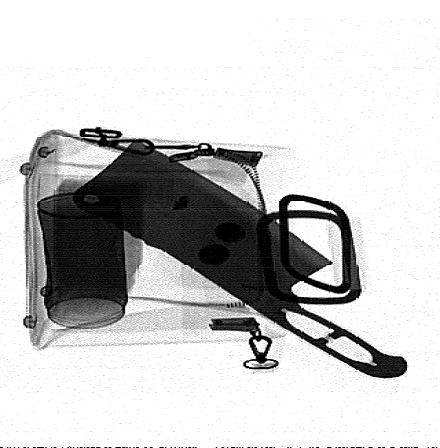Knife: (71, 138, 408, 379)
